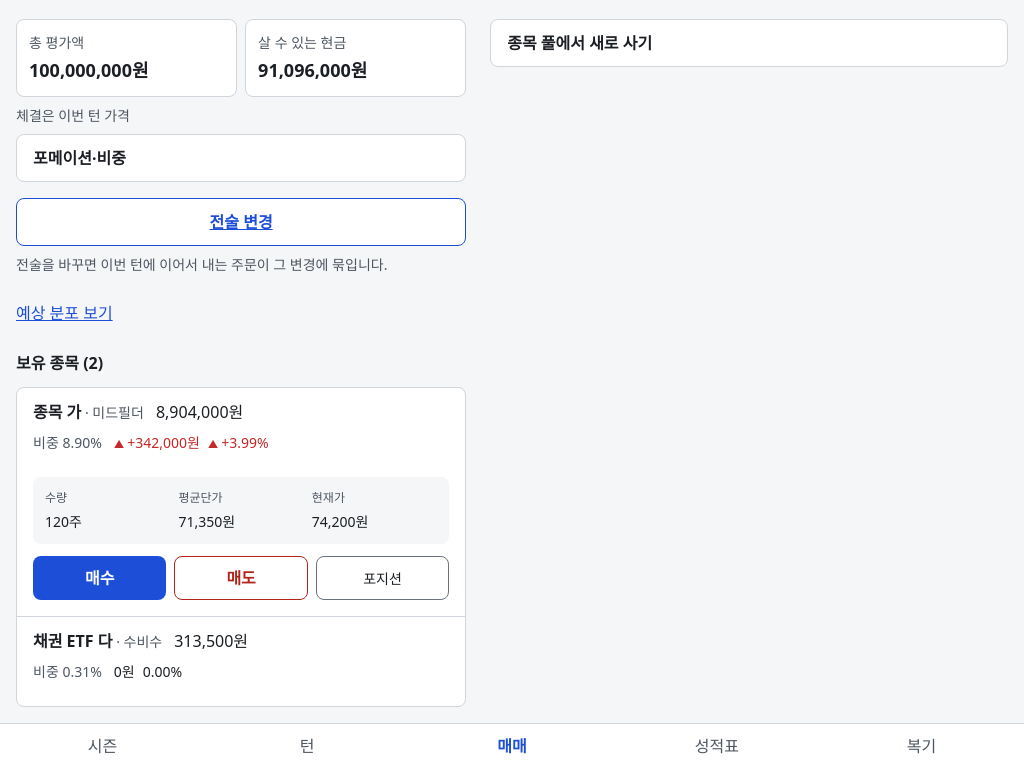
Test: compact holdings › opens exactly one row at a time and sends the toggle back to its row
(page scrolled)
Click the button "채권 ETF 다 · 수비수 313,500원 비중 0.31% 0원 0.00%": (73,641) [17,617,465,706]
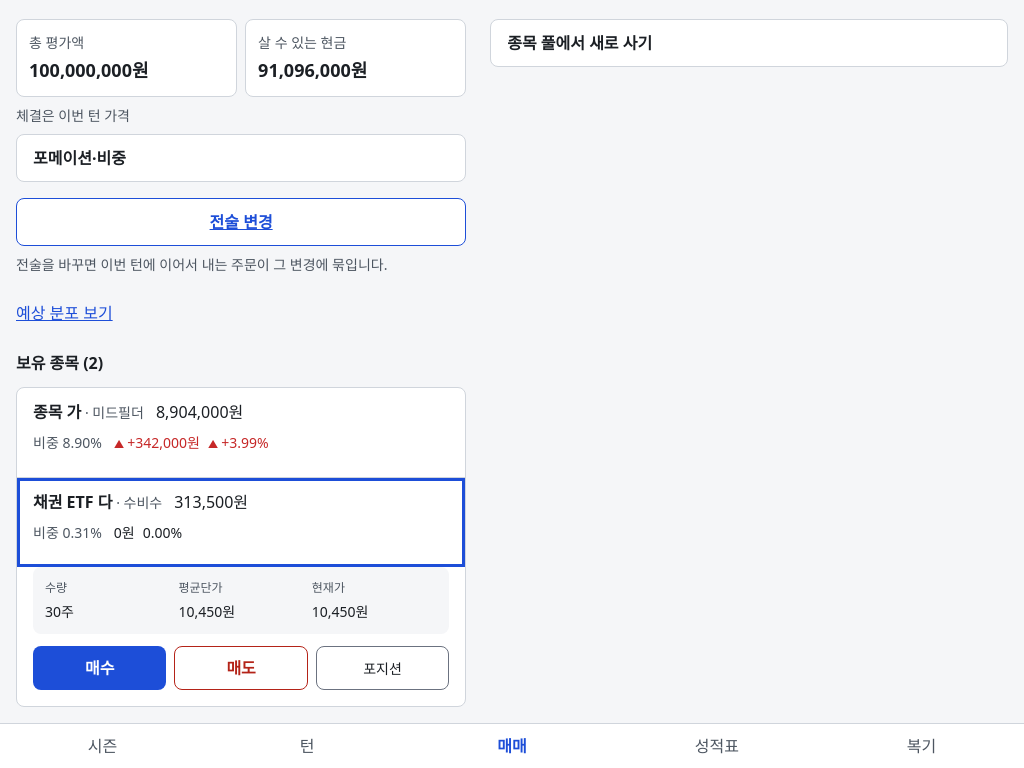
Expected: the button "채권 ETF 다 · 수비수 313,500원 비중 0.31% 0원 0.00%" is expanded
Click the button "채권 ETF 다 · 수비수 313,500원 비중 0.31% 0원 0.00%": (73,502) [17,478,465,567]
(page scrolled)
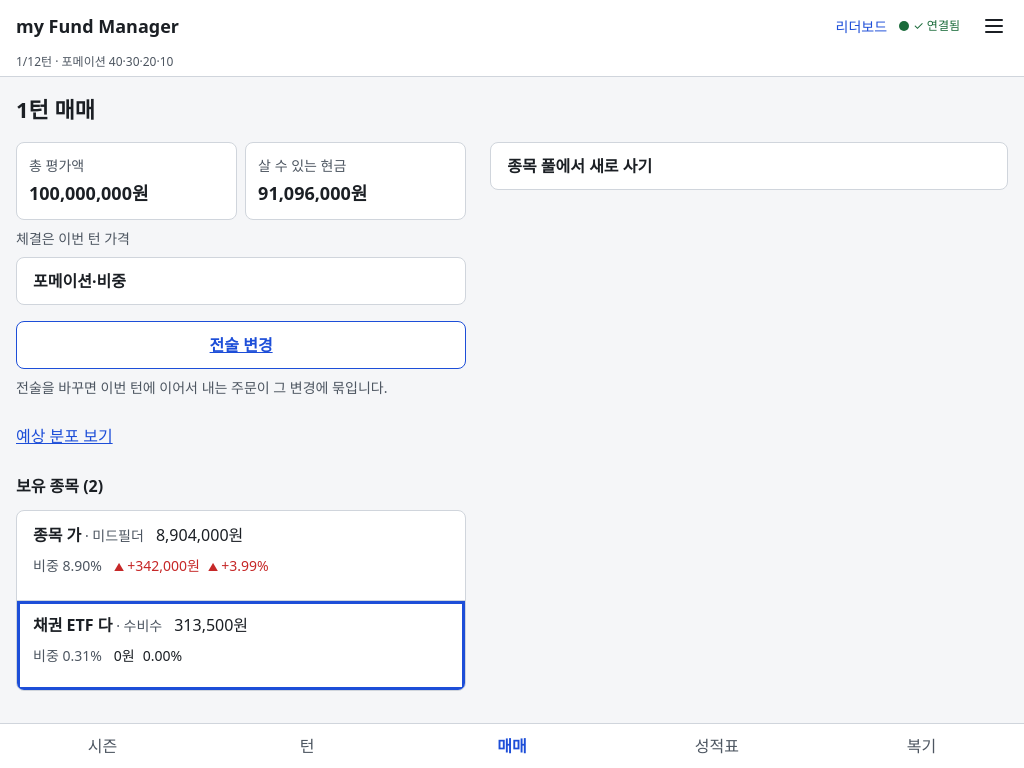
Expected: no the button "매수" are shown
Expected: the text "평균단가" is gone
